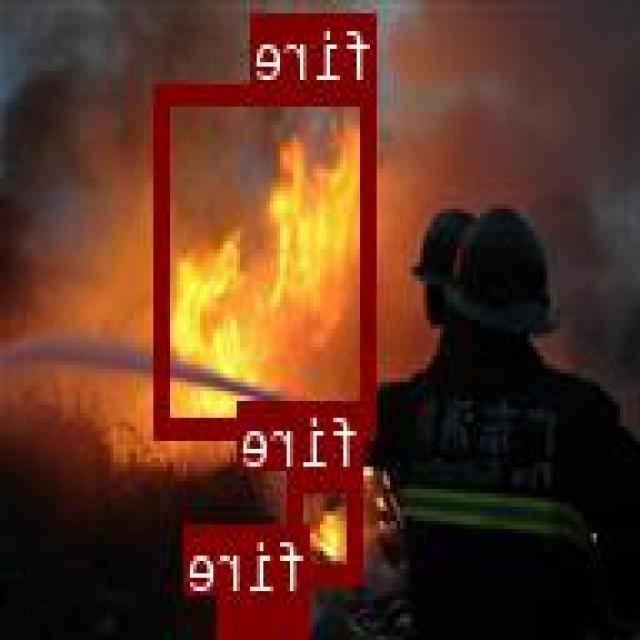fire: (160, 84, 378, 436), (291, 470, 364, 579), (223, 593, 313, 631)
